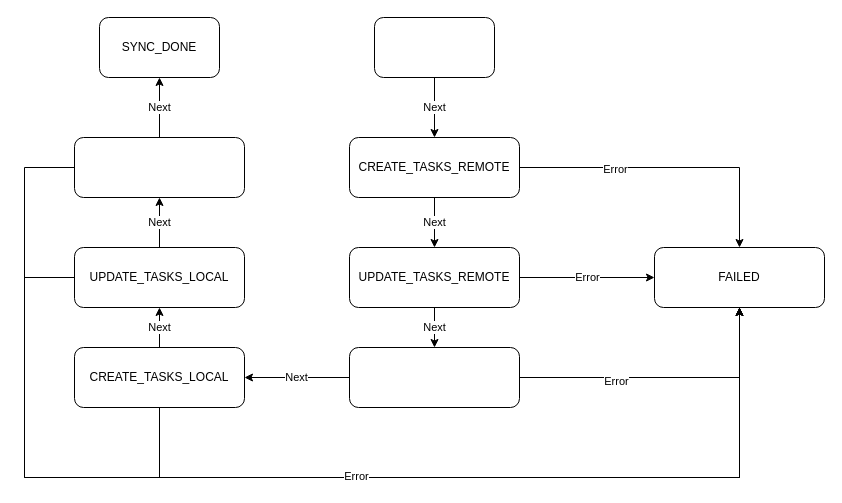
Some shapes in this 842 by 503 pixel diagram are drawn without their labels. The shapes that lost their labels are listed below. From the top down, each one's centre as x and y in pixels, then its label:
At point (434, 47): "START_SYNC".
At point (159, 167): "DELETE_TASKS_LOCAL".
At point (434, 377): "DELETE_TASKS_REMOTE".
